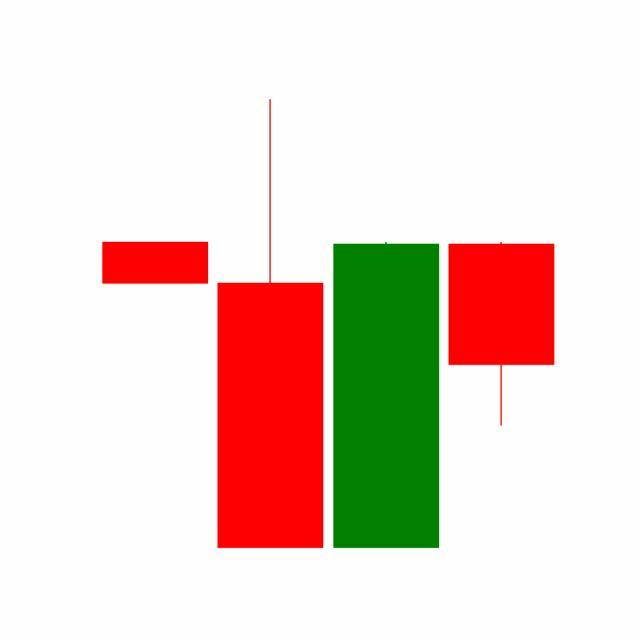Marubozu: (329, 239, 445, 552)
